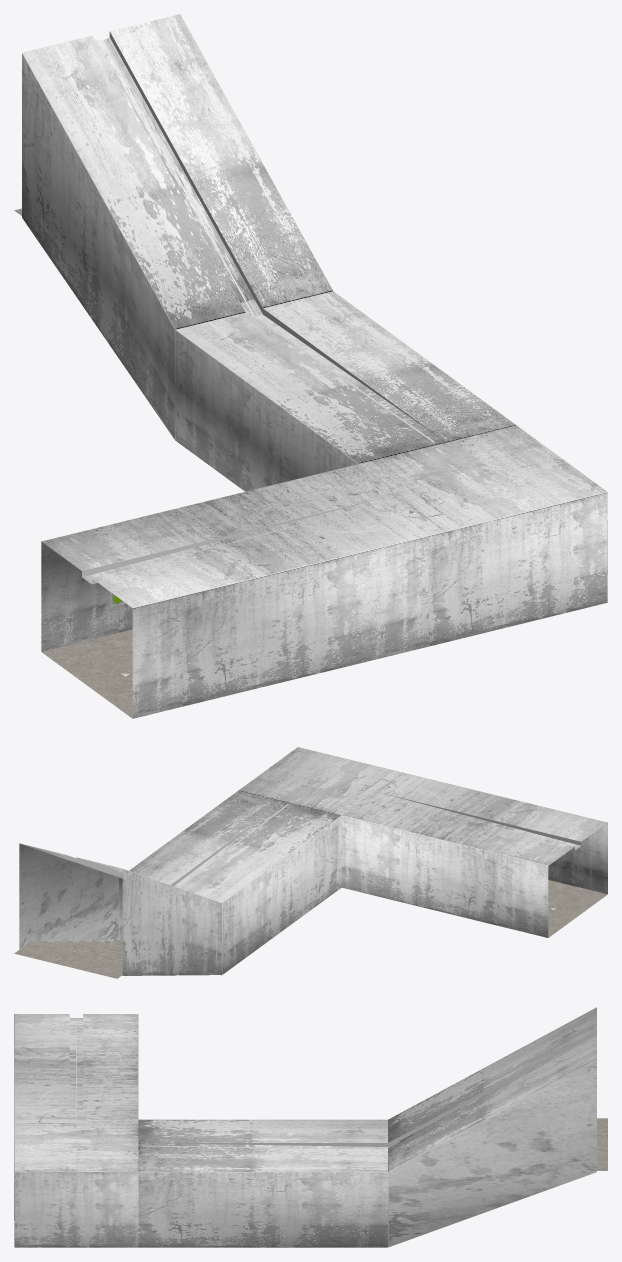
The model's file is Locker_bigdoor_v3.fbx.
3 views of the same model, one above another, from view 1: azimuth 30°, elevation 25°; view 2: azimuth 150°, elevation 25°; view 3: azimuth 270°, elevation 25° (orthographic). The views are drawn at different scales.
Visible parts, largest first — view 1: Cube; view 2: Cube; view 3: Cube.
Boxes of the visible parts, box(x1,y1,x2,y2) form: Cube: box(14, 14, 607, 718); Cube: box(14, 747, 607, 978); Cube: box(14, 1007, 607, 1247).
Size of the model in its own units: 900 by 499 by 1428.
